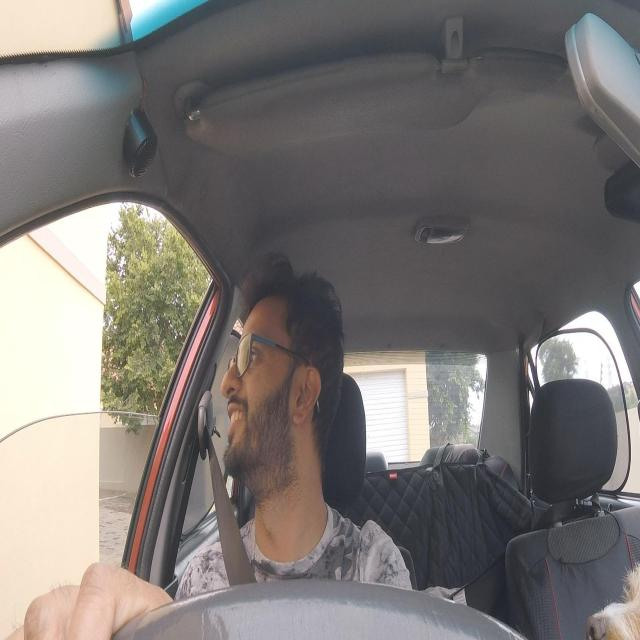open: (236, 322, 274, 391)
